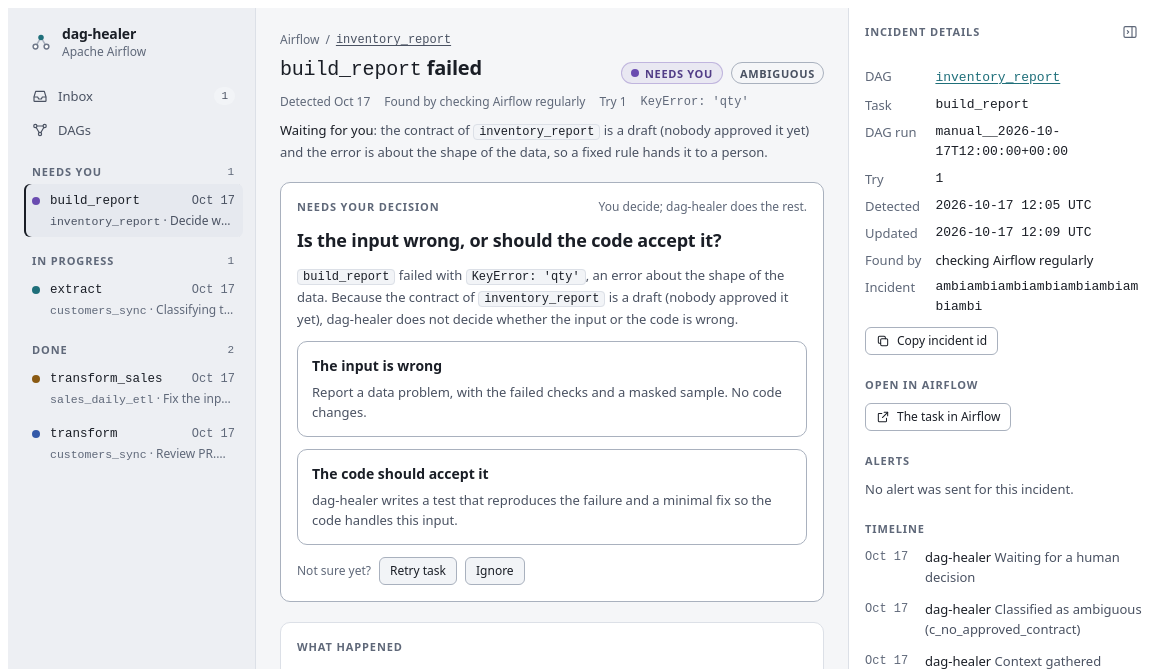
Scenario: the side panel › hides and shows with its button and with ], remembers it, and moves focus
expect the element with test id "decision" is shown: met, box [280,182,824,602]
Click the button with test id "panel-hide" at (1130, 32), box [1116,18,1144,46]
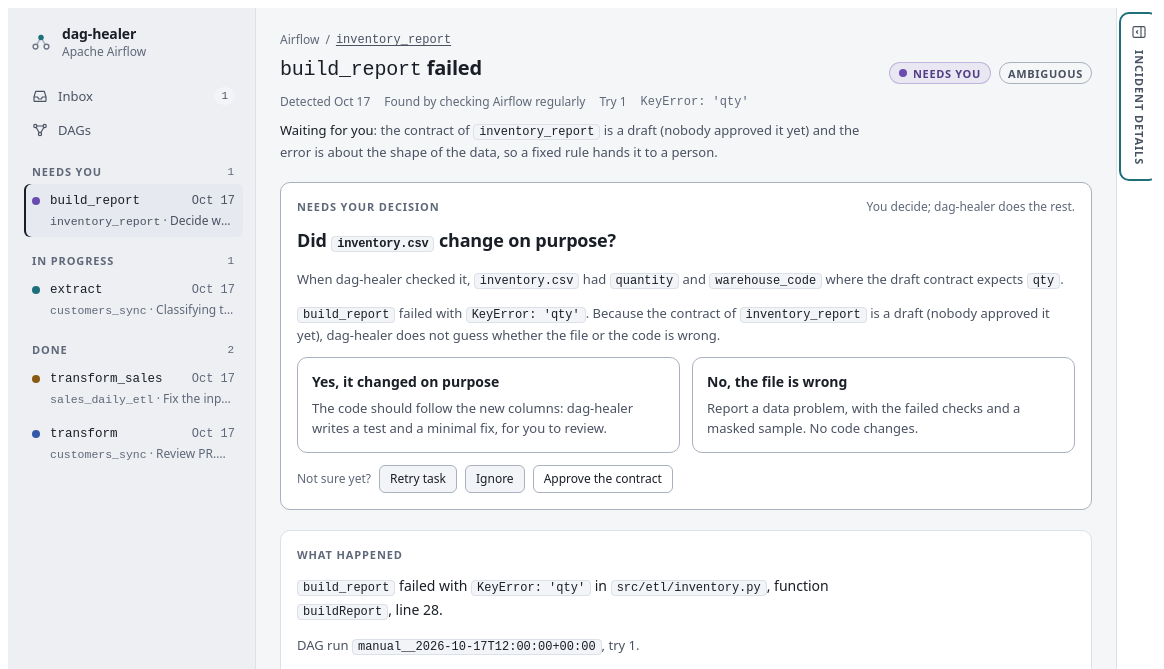
// ⌥] on macOS Spanish layouts types "]" with altKey set.
Press ]
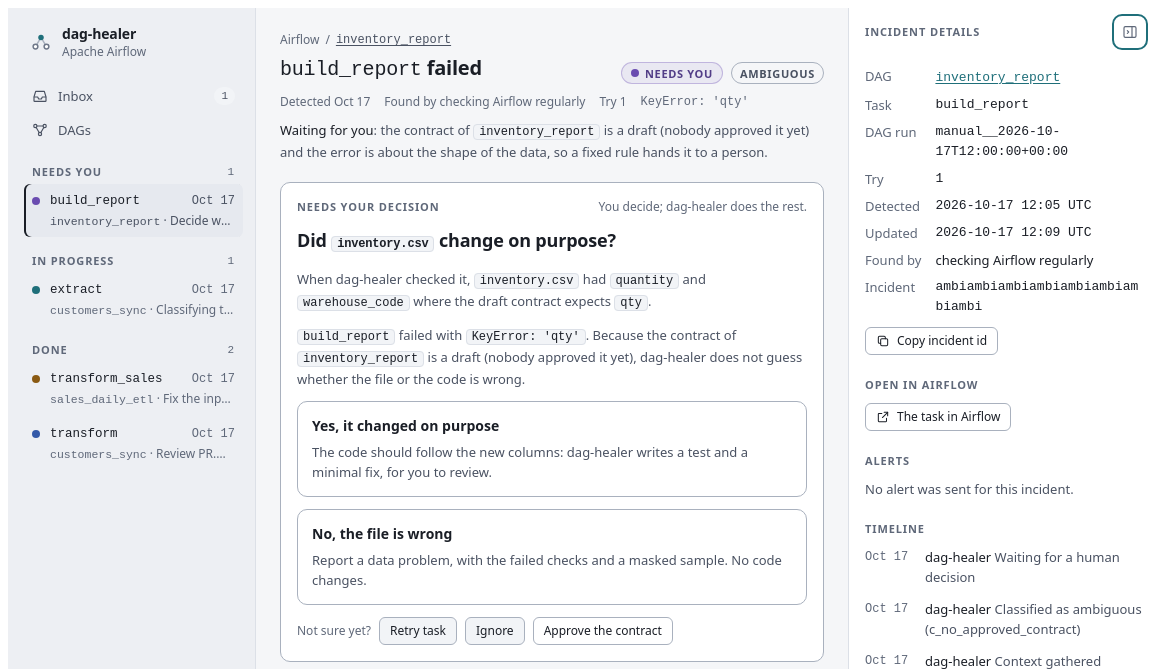
expect the button with test id "panel-show" is gone: met
